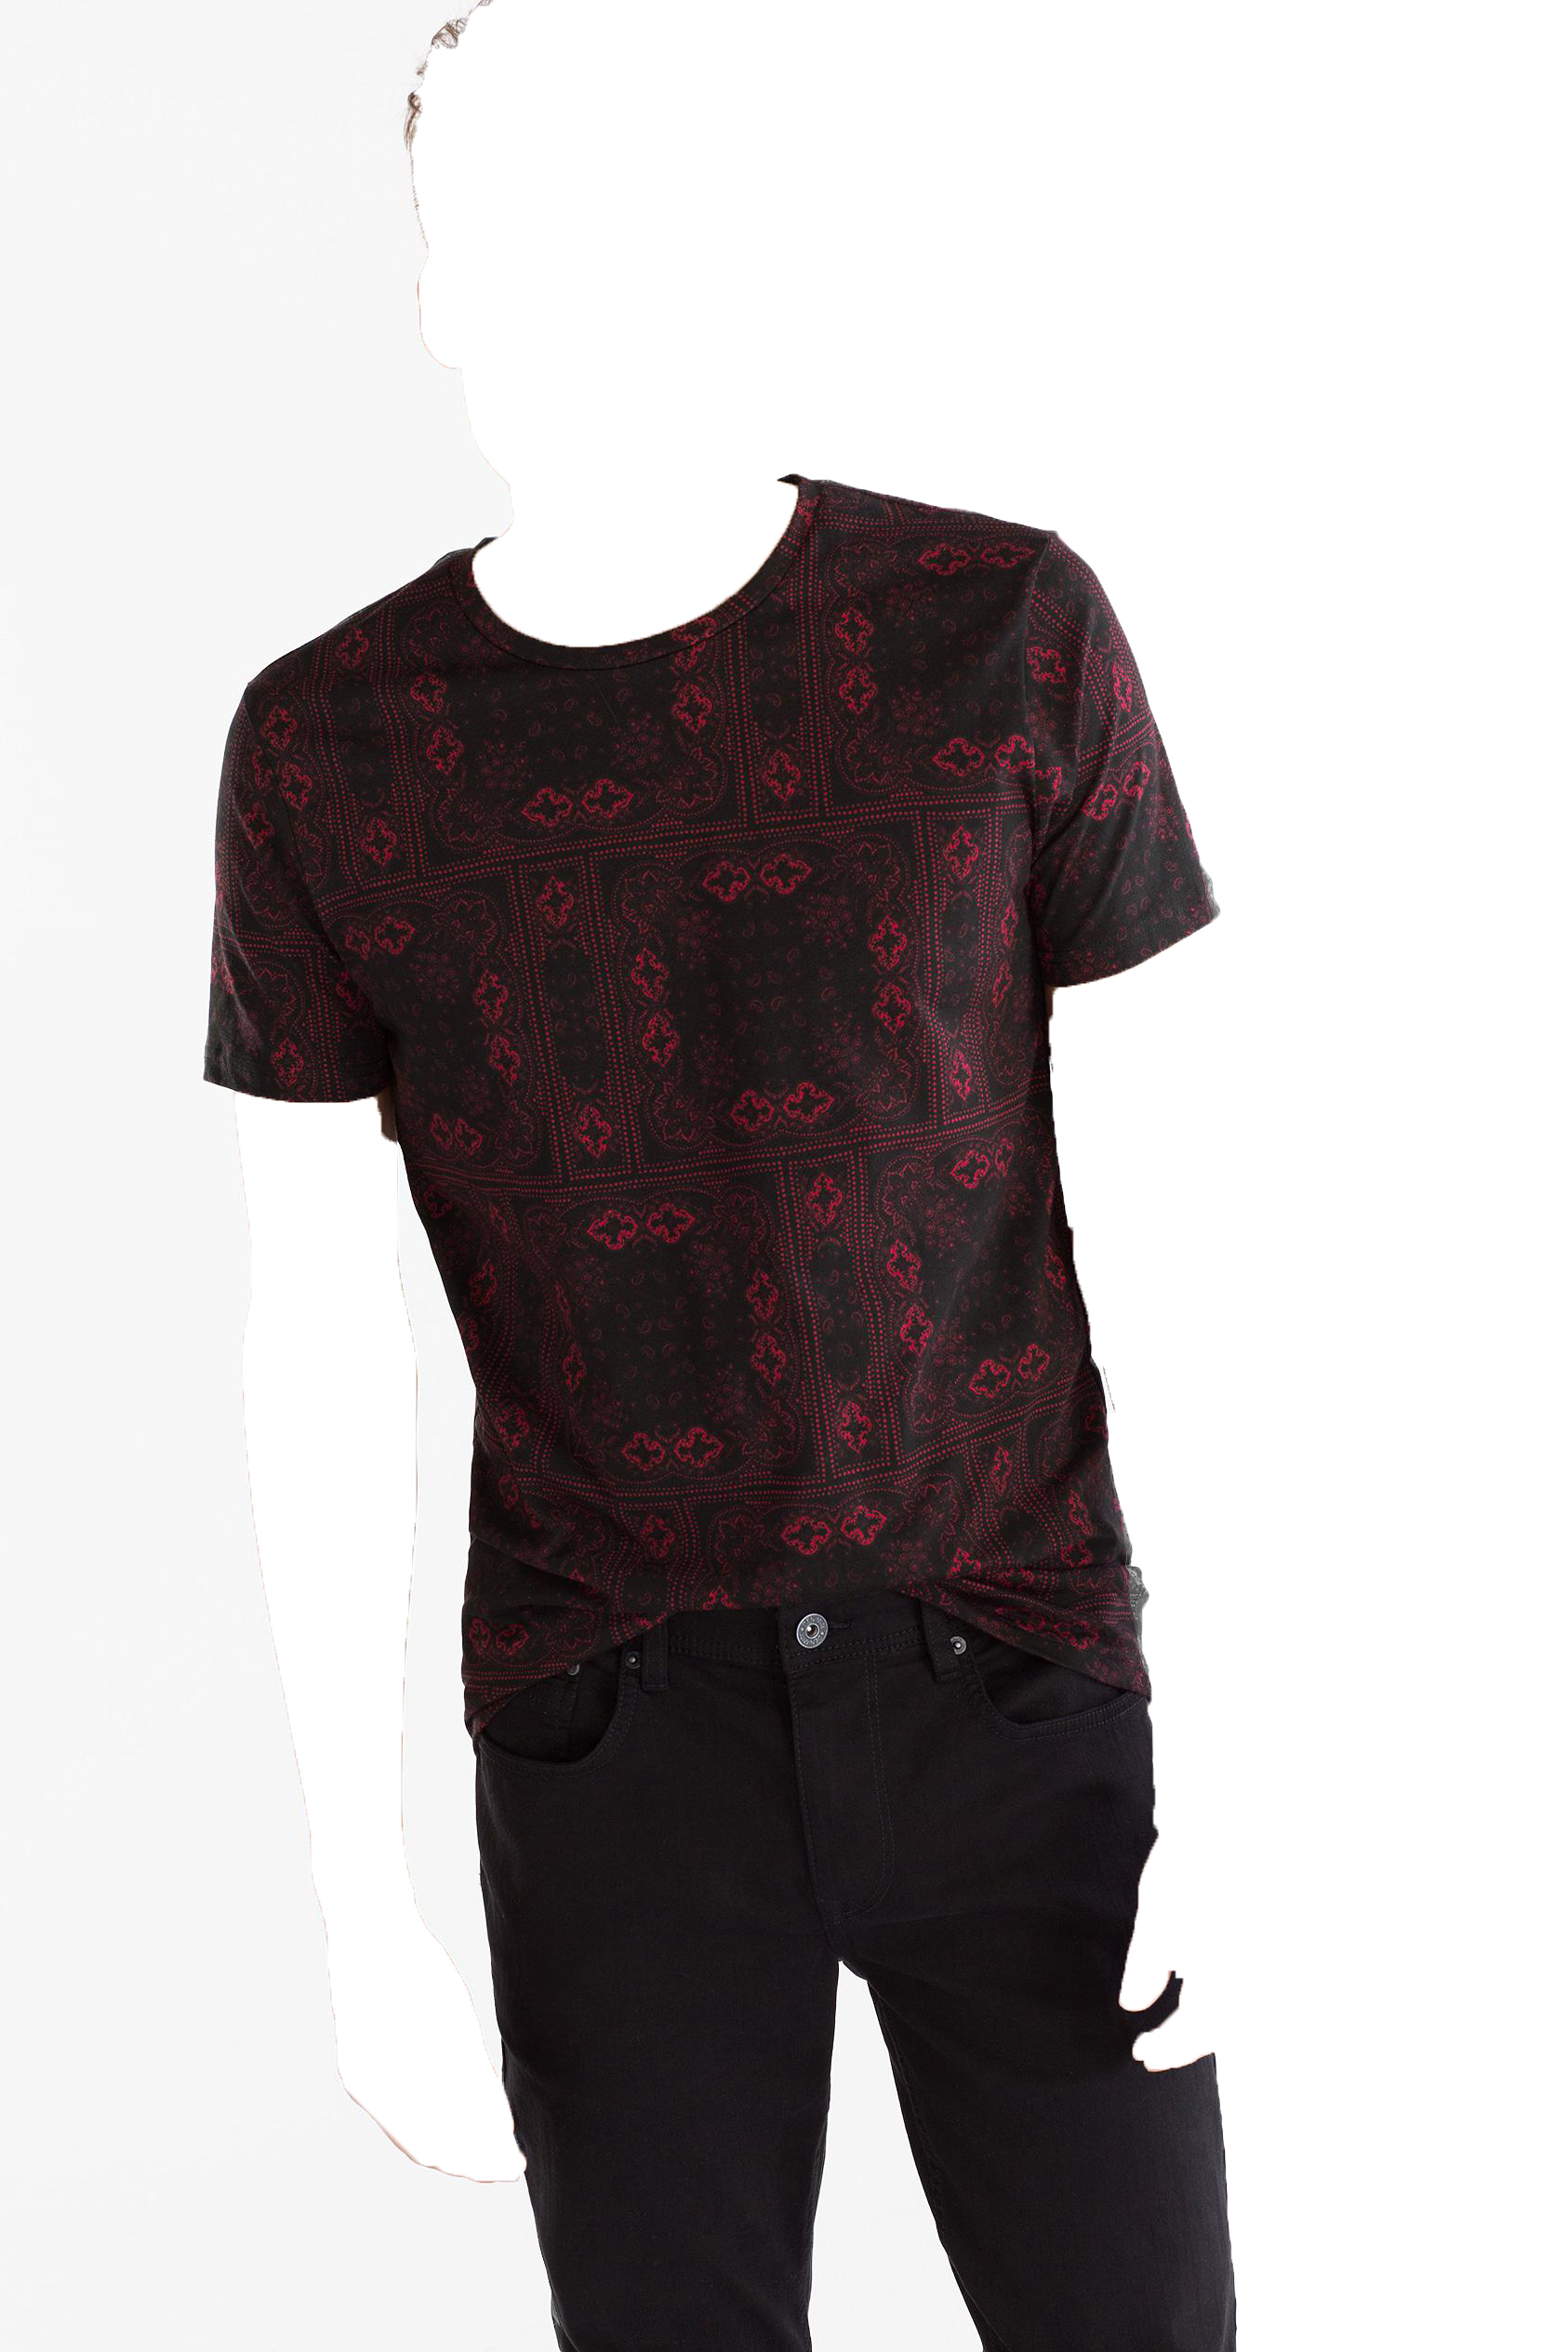teeshirt: (184, 481, 1211, 1708)
